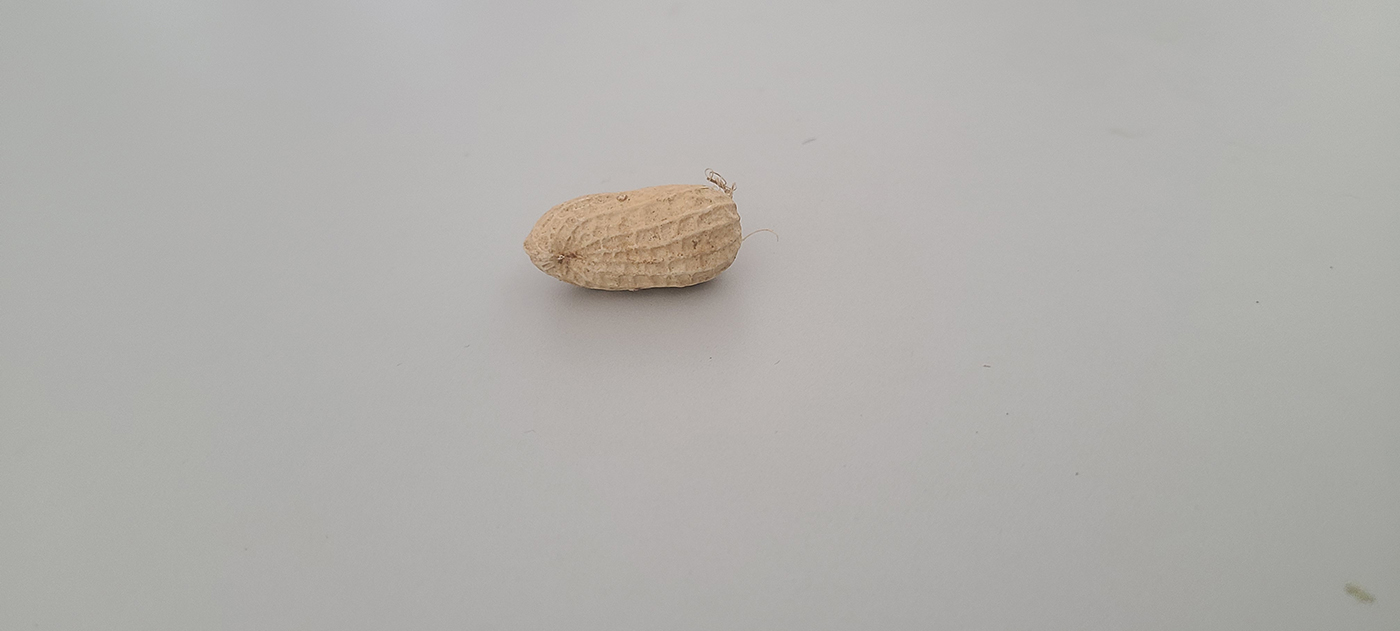h: (524, 180, 744, 292)
